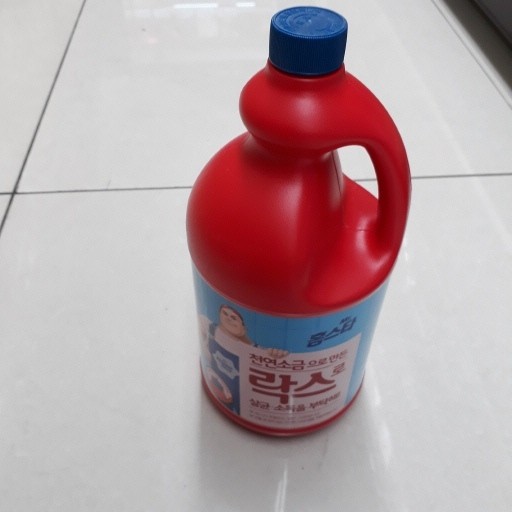Plastic_1: (188, 8, 413, 441)
